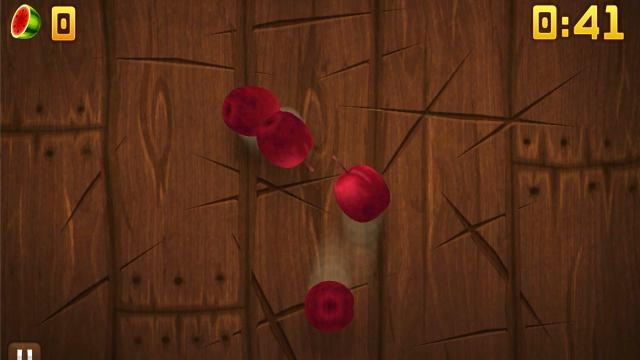fruit: (334, 161, 391, 223), (256, 110, 314, 168), (223, 86, 281, 136), (304, 279, 354, 333)
ignore: (9, 3, 43, 41)
